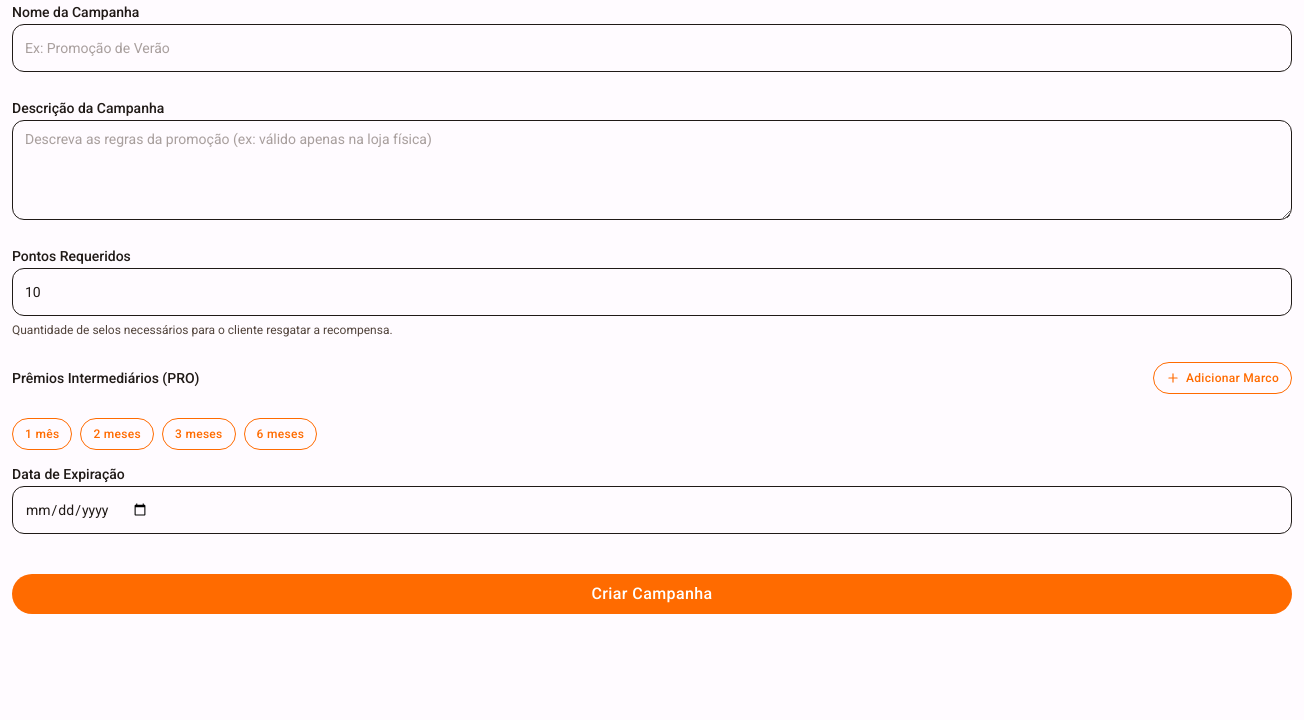
Test case: CreateCampaignForm › deve validar nome da campanha muito curto
In the field with placeholder "Ex: Promoção de Verão": coordinates (652, 48) [12, 24, 1292, 72], type "ab"
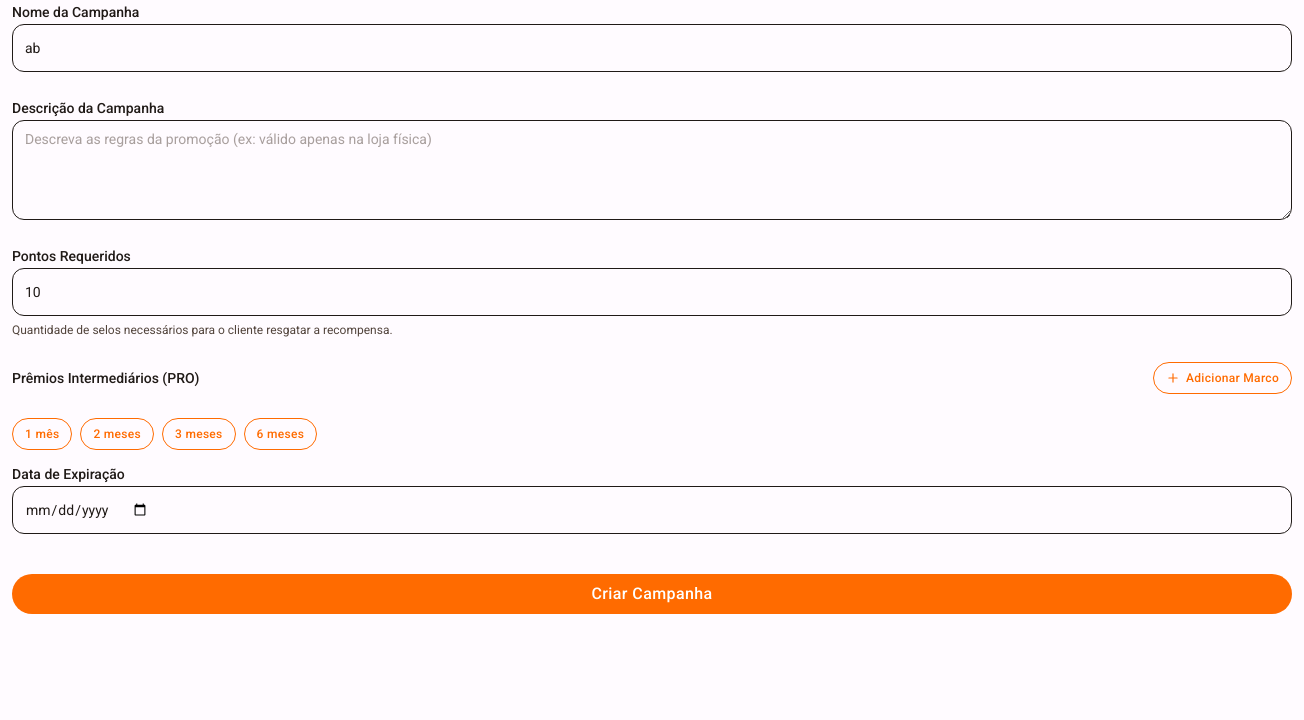
Click the button "Criar Campanha": coordinates (652, 594) [12, 574, 1292, 614]
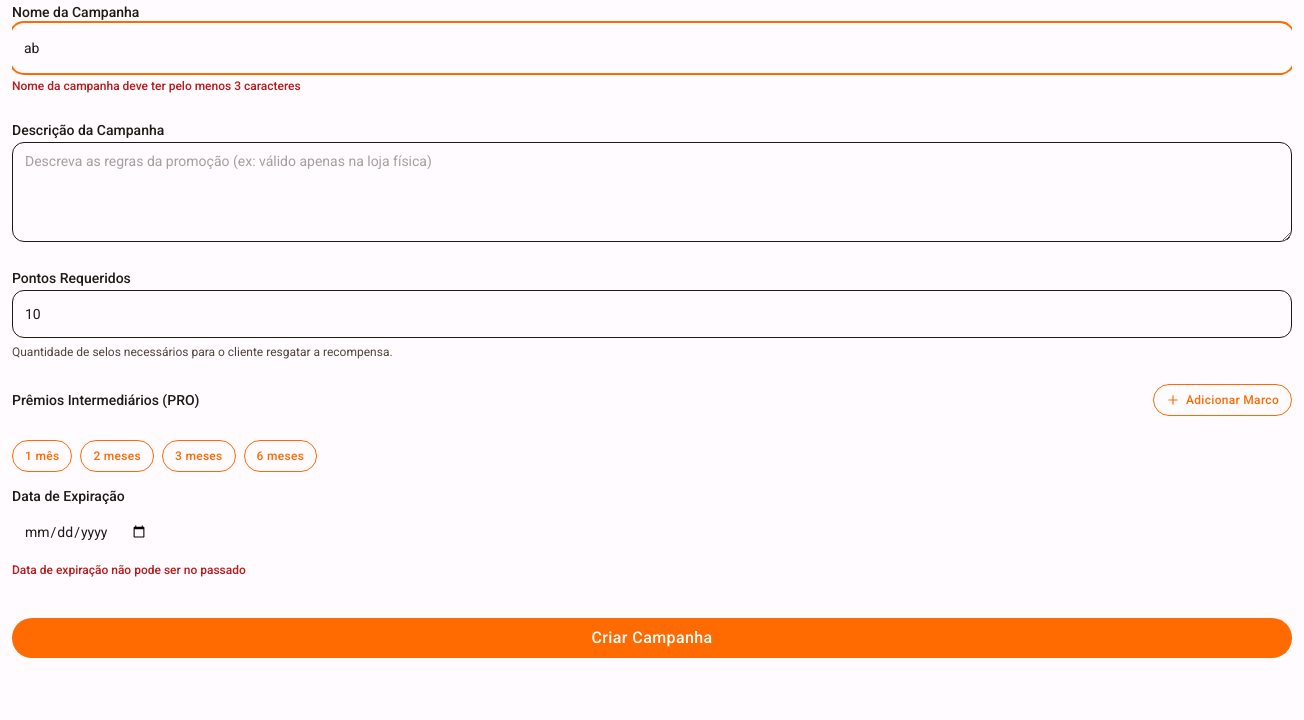
Result: the text "Nome da campanha deve ter pelo menos 3 caracteres" is shown at [12, 79, 301, 93]
